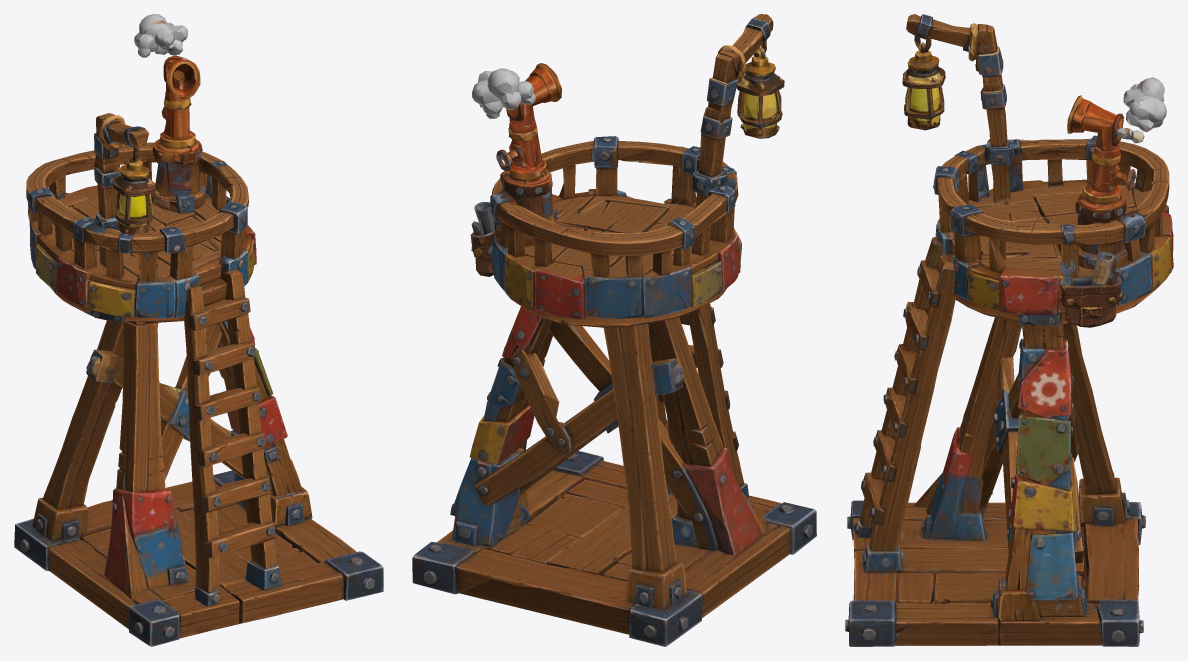
The model's file is lookout.glb.
The picture shows the model from 3 angles, left to right: view 1: azimuth 30°, elevation 25°; view 2: azimuth 150°, elevation 25°; view 3: azimuth 270°, elevation 25°; orthographic projection. The views are drawn at different scales.
Parts seen in each view (by area): view 1: output_unwrapped; view 2: output_unwrapped; view 3: output_unwrapped.
Boxes of the visible parts, x1,y1,x2,y2 form: output_unwrapped: [14, 14, 383, 646]; output_unwrapped: [412, 14, 816, 646]; output_unwrapped: [845, 14, 1173, 646].
Size of the model in its own units: 0.9783 by 1.9 by 1.08.
Materials: 1 (1 with a texture image).
